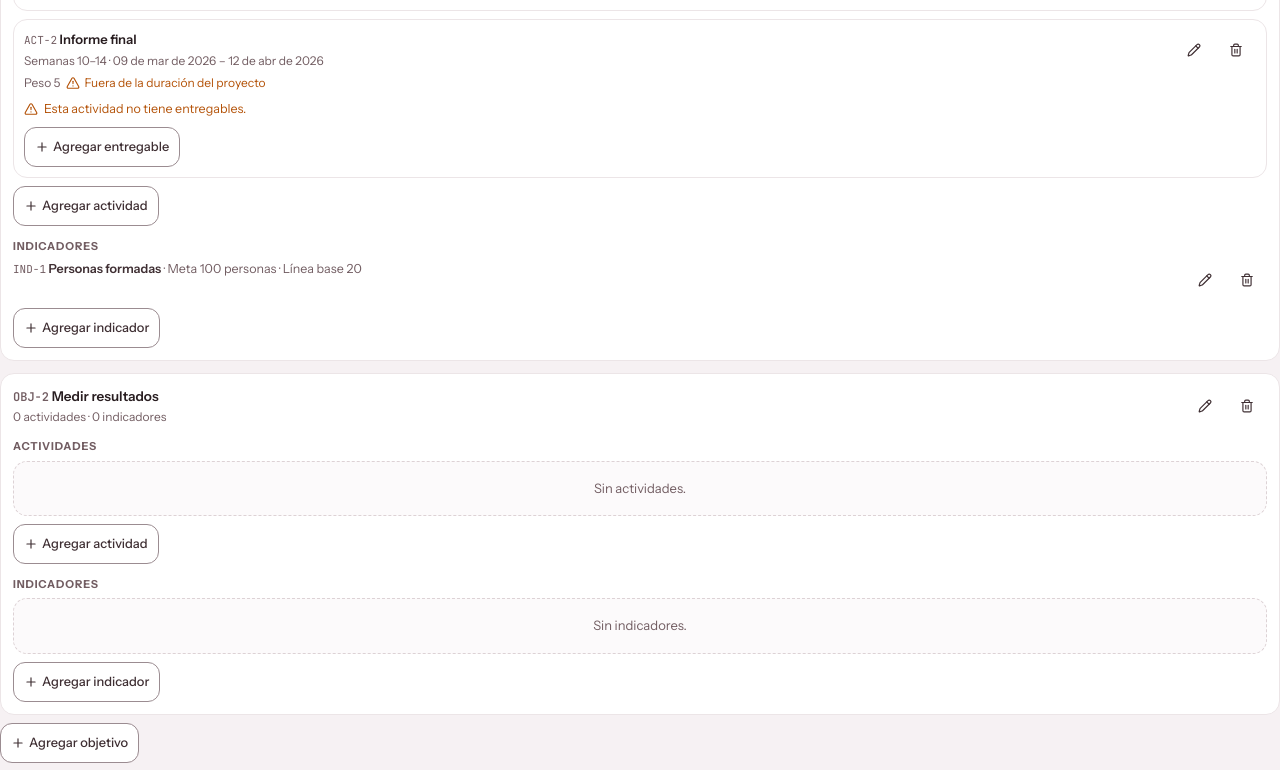
Scenario: ProjectEstructura › objectives (manager, BORRADOR) › shows the server 409 inline when the code is duplicated
The width and height of the screenshot is (1280, 770).
(page scrolled)
Click the button "Agregar objetivo".
click(70, 742)  # box [0,722,139,762]
(page scrolled)
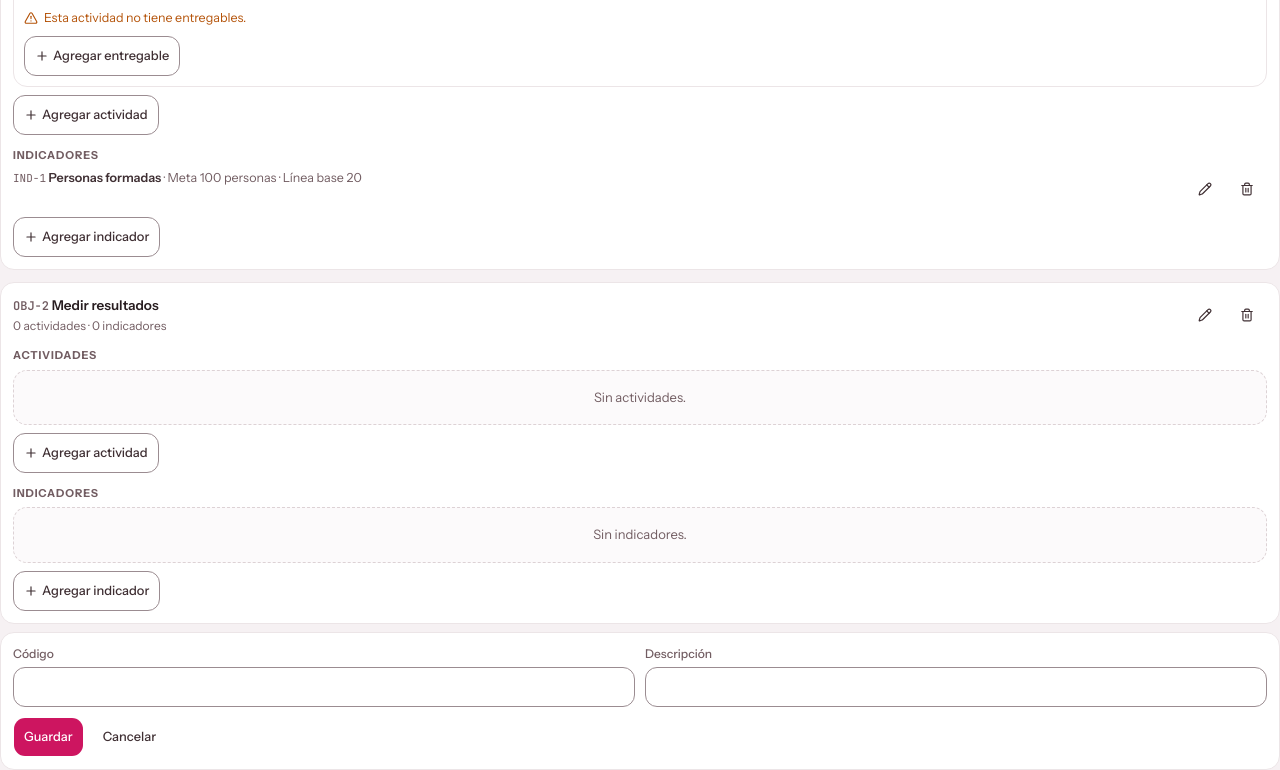
Type "OBJ-1" into the field labelled "Código".
click(324, 686); type("OBJ-1")  # box [13,666,635,706]
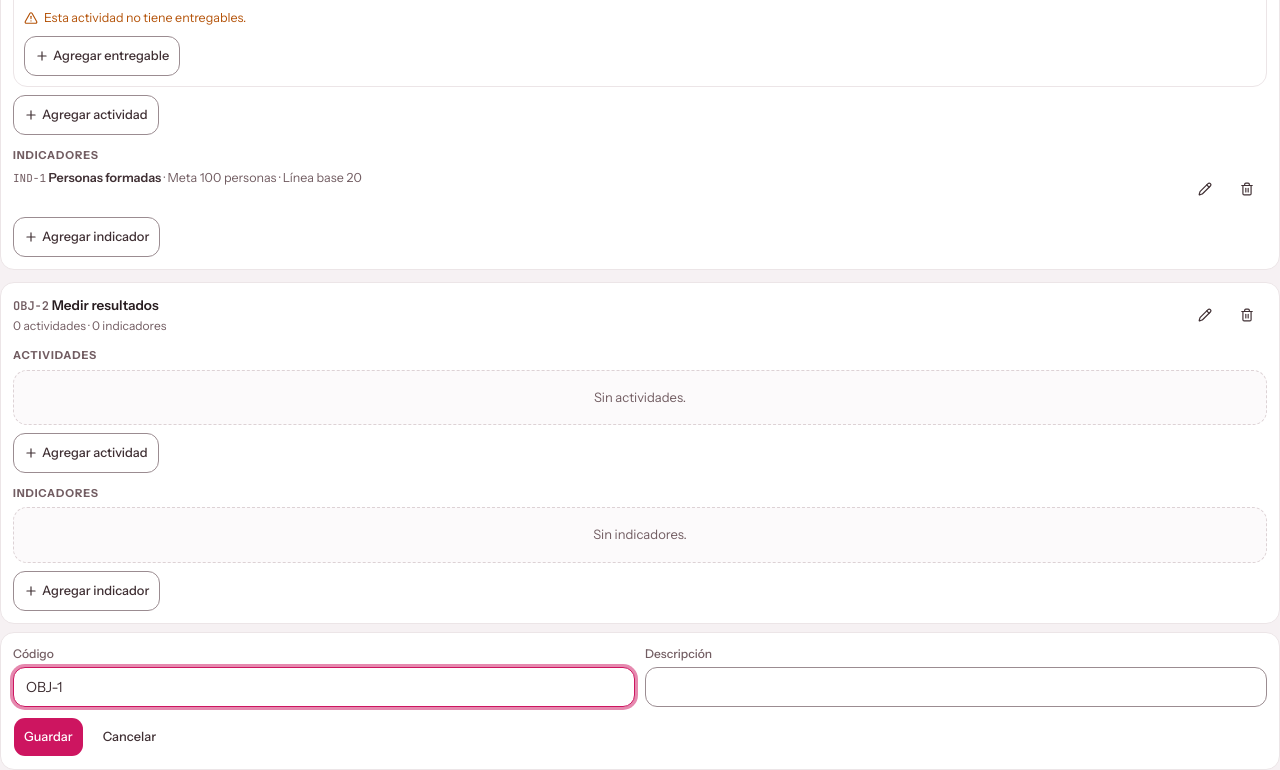
Type "Repetido" into the field labelled "Descripción".
click(956, 686); type("Repetido")  # box [645,666,1267,706]
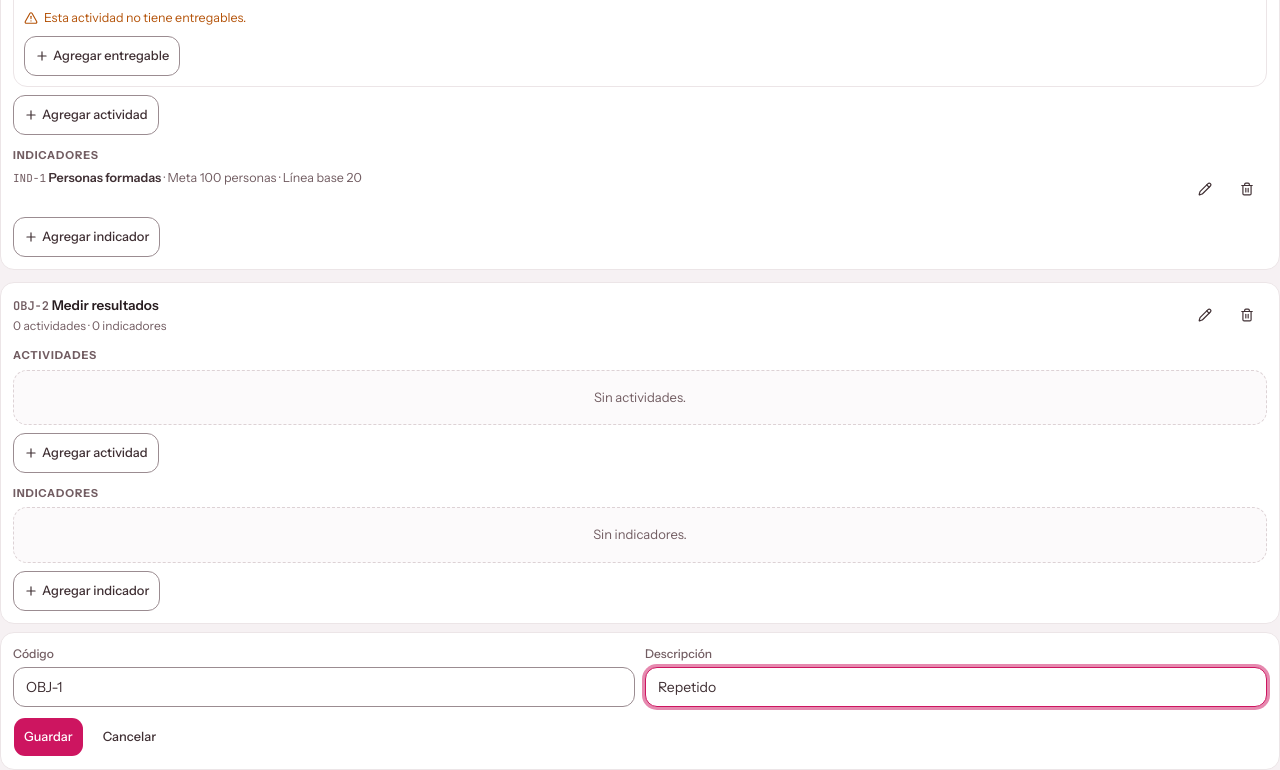
Click the button "Guardar".
click(48, 736)  # box [13,716,84,756]
(page scrolled)
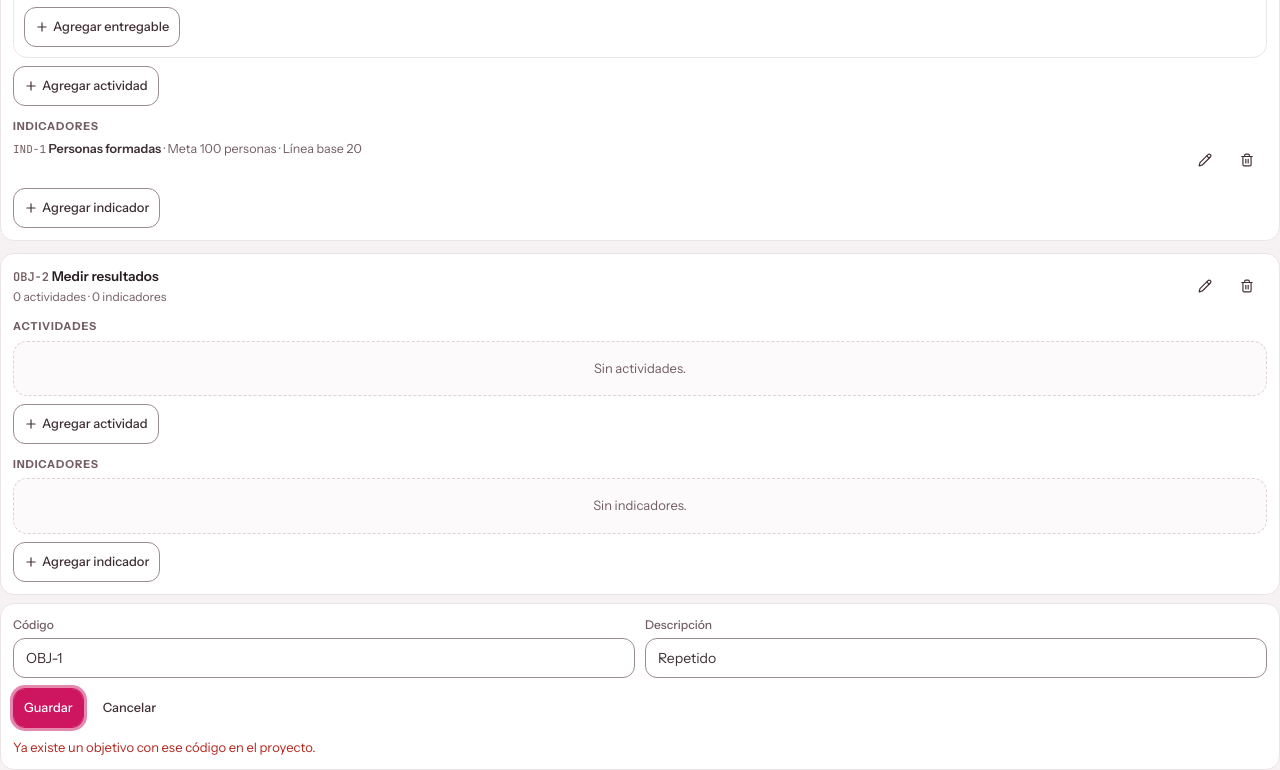
Result: the message reads "Ya existe un objetivo con ese código en el proyecto." at [13,738,316,754]
